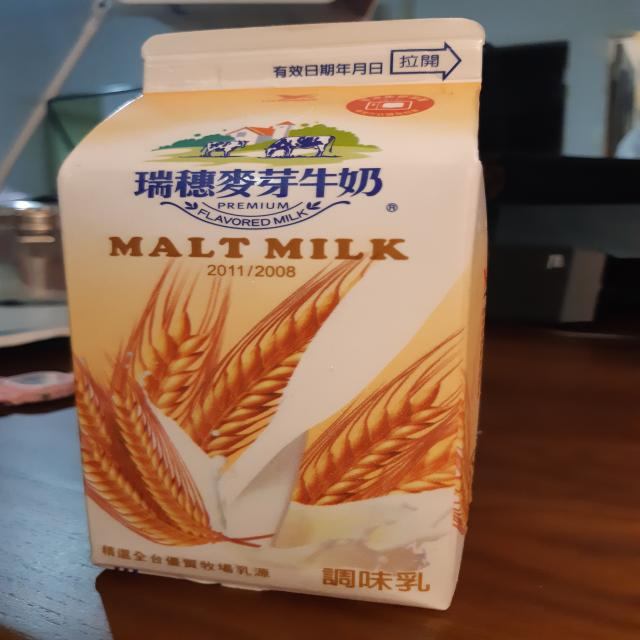RuiSui_MaltedMilk: (49, 10, 493, 622)
